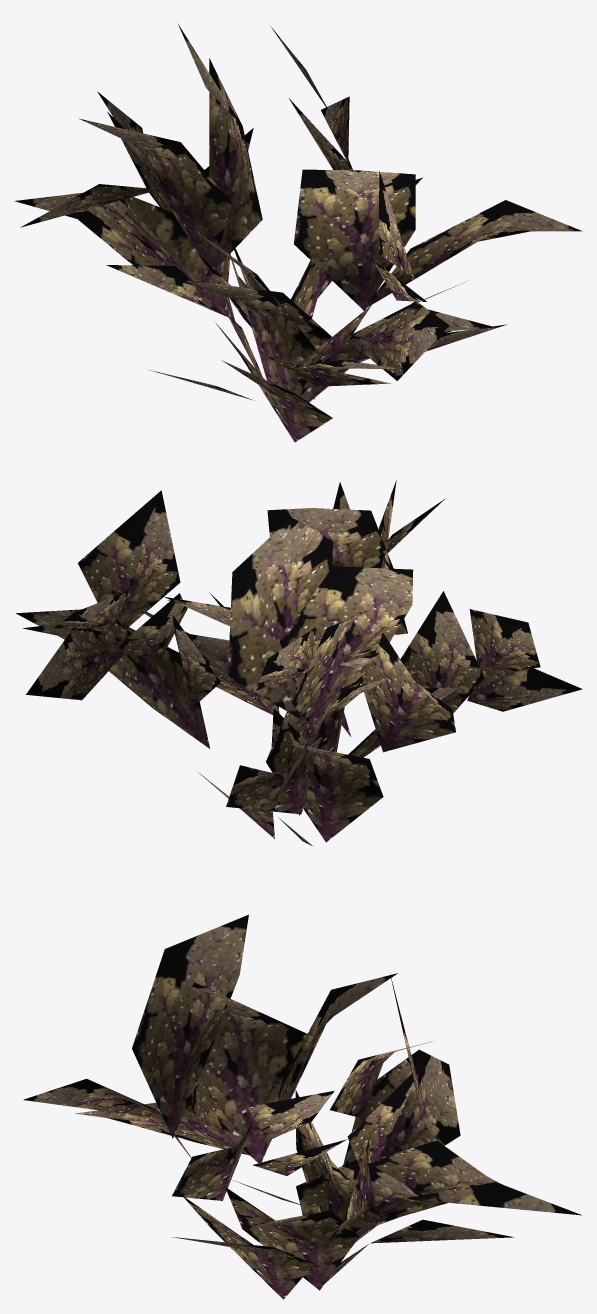
The model's file is pal_b05_tree_Bush-01_6b1e4d.glb.
3 views of the same model, one above another, from view 1: azimuth 30°, elevation 25°; view 2: azimuth 150°, elevation 25°; view 3: azimuth 270°, elevation 25° (orthographic). The views are drawn at different scales.
Size of the model in its own units: 4.1 by 3.47 by 4.67.
Materials: 1 (1 with a texture image).
